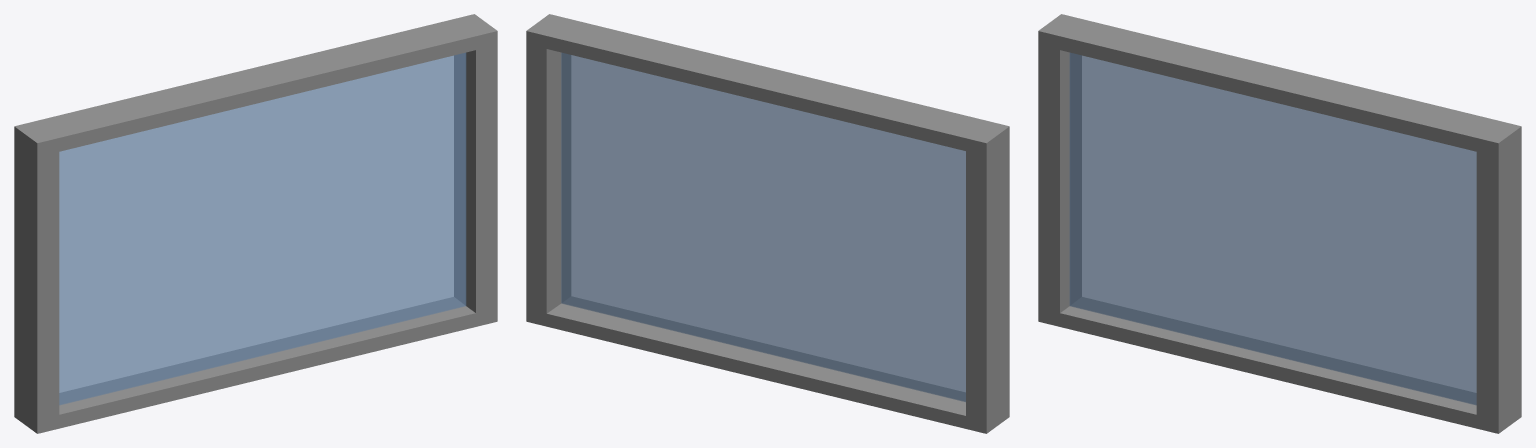
Rendered from SciFiWallPanelWindow_3.fbx.
3 renders of one model, left to right at view 1: azimuth 30°, elevation 25°; view 2: azimuth 150°, elevation 25°; view 3: azimuth 330°, elevation 25°, orthographic.
Visible parts, largest first — view 1: SciFiPanel3; view 2: SciFiPanel3; view 3: SciFiPanel3.
Boxes of the visible parts, x1,y1,x2,y2 form: SciFiPanel3: (14,14,497,433); SciFiPanel3: (526,14,1009,433); SciFiPanel3: (1038,14,1521,433).
Size of the model in its own units: 573 by 346 by 50.
